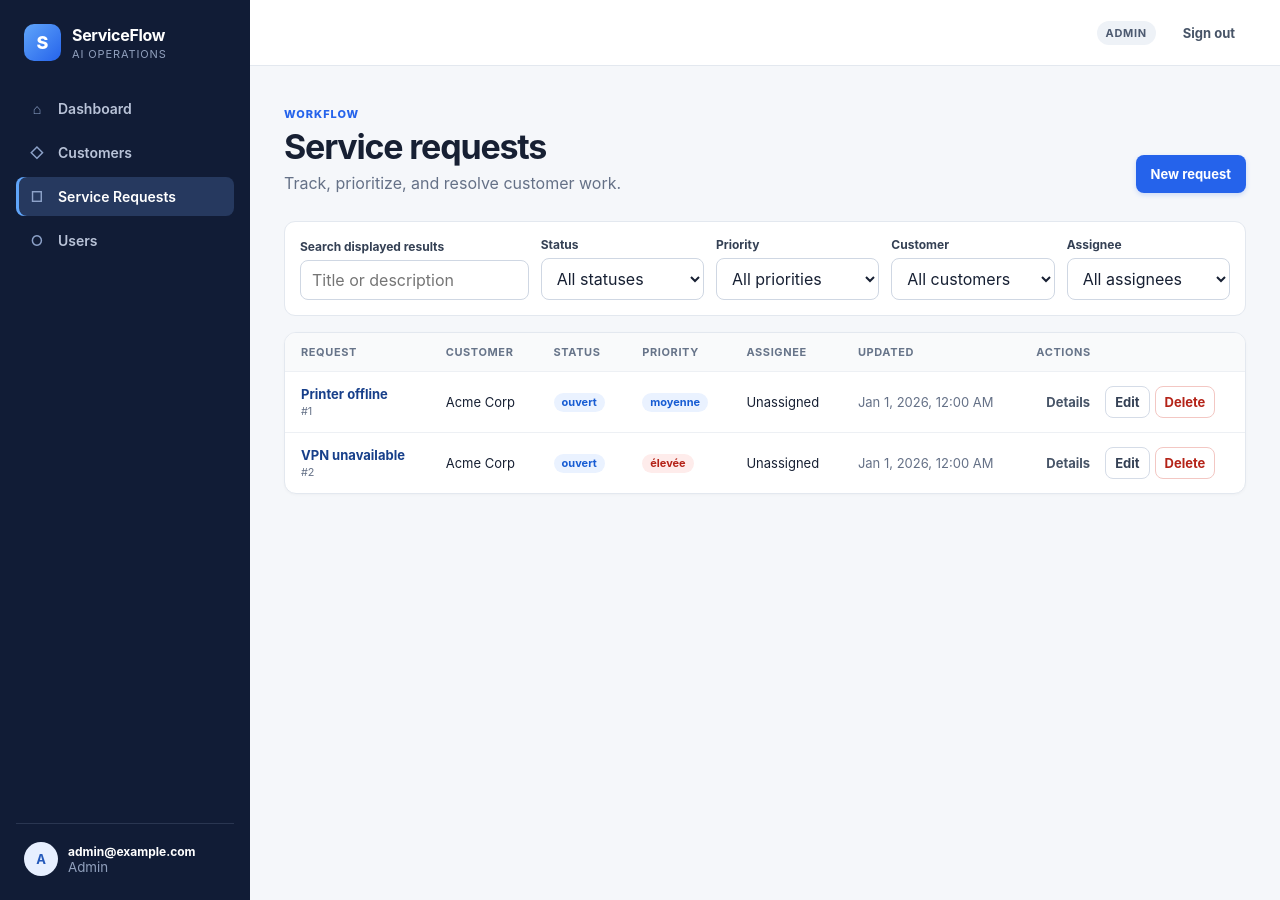
Test case: AI ticket suggestions › ignores a completed suggestion request after switching tickets
Click the button "Printer offline": (344, 394) [301, 386, 388, 402]
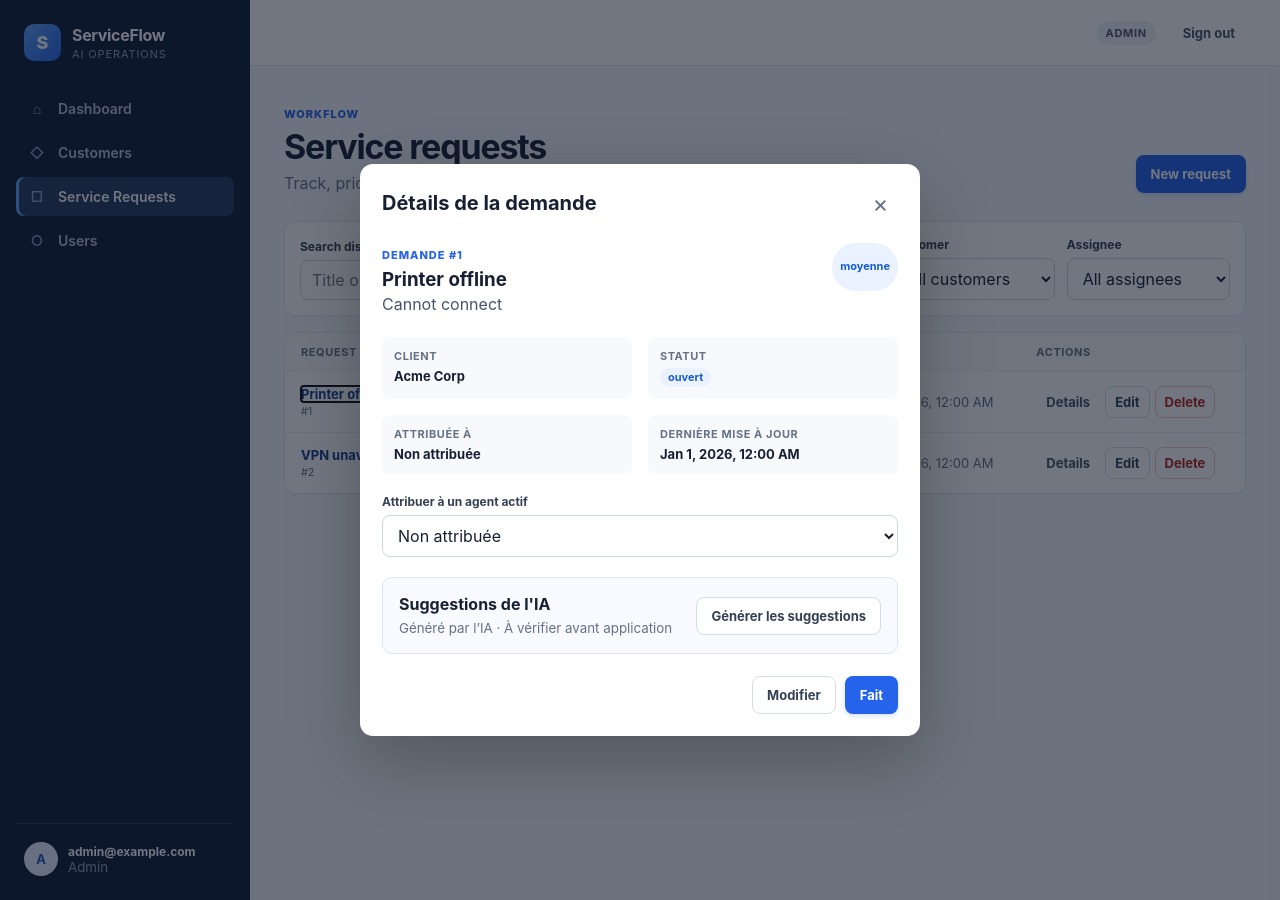
Click the button "Générer les suggestions": (789, 616) [696, 597, 881, 635]
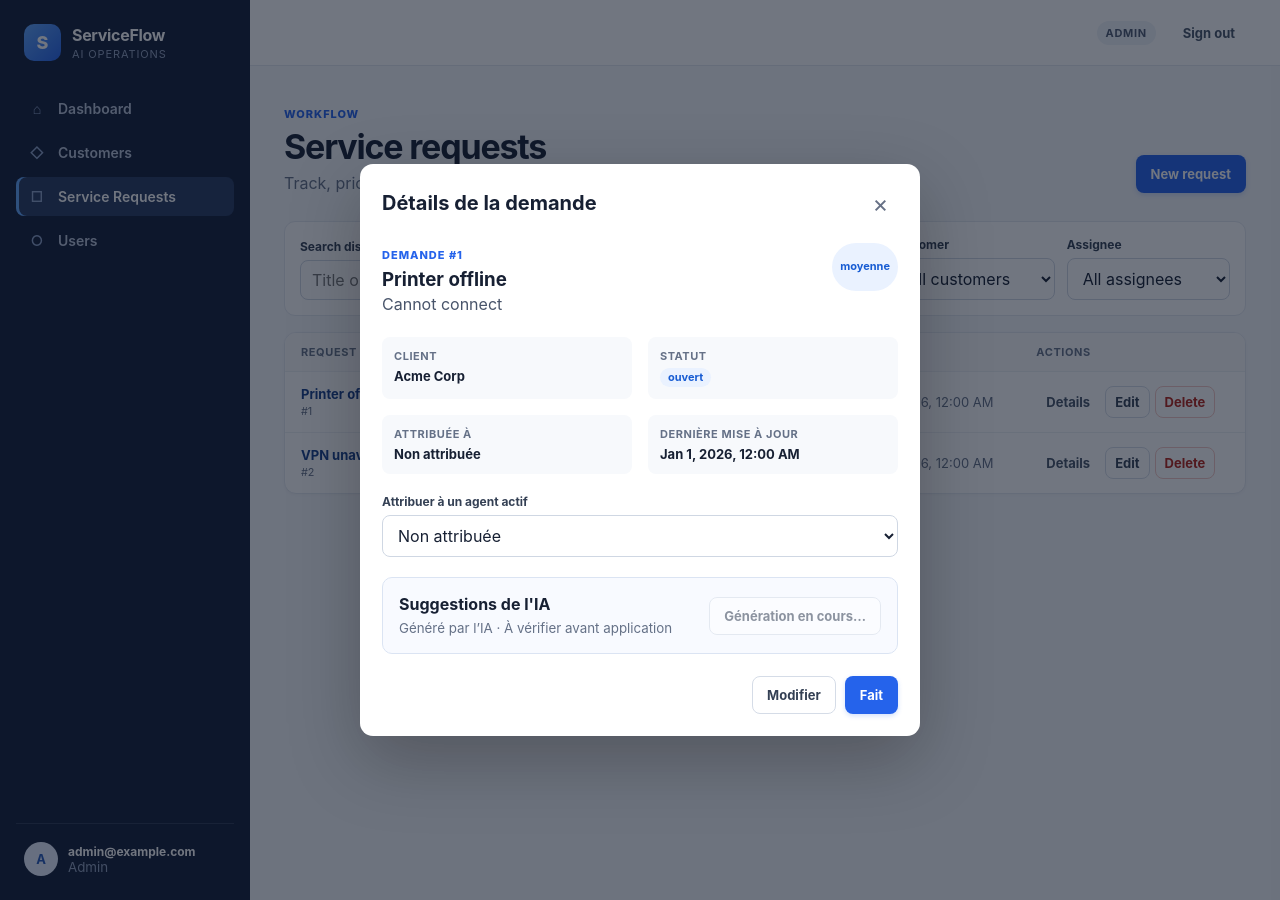
Click the button "Fait": (871, 695) [845, 676, 898, 714]
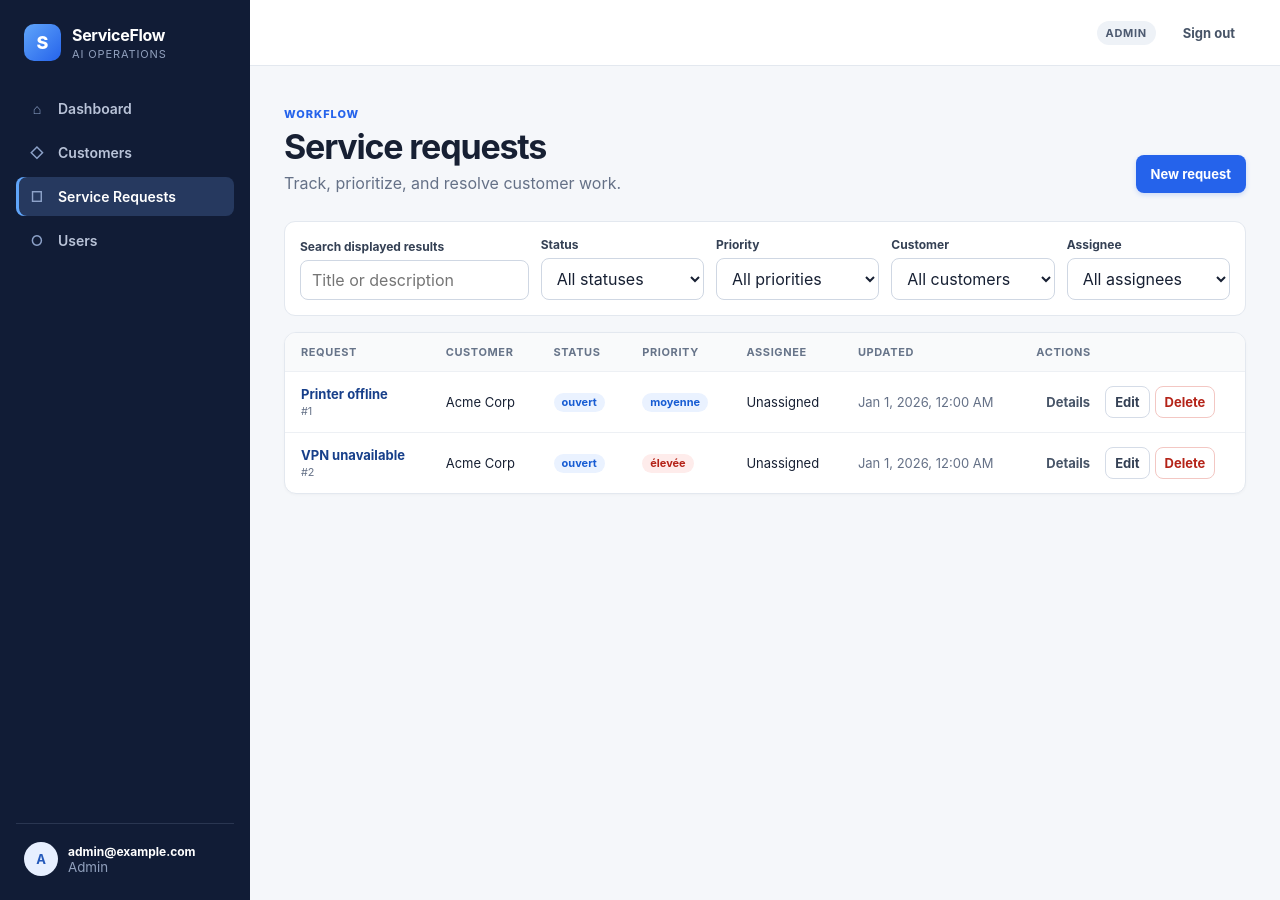
Click the button "VPN unavailable": (353, 455) [301, 447, 405, 463]
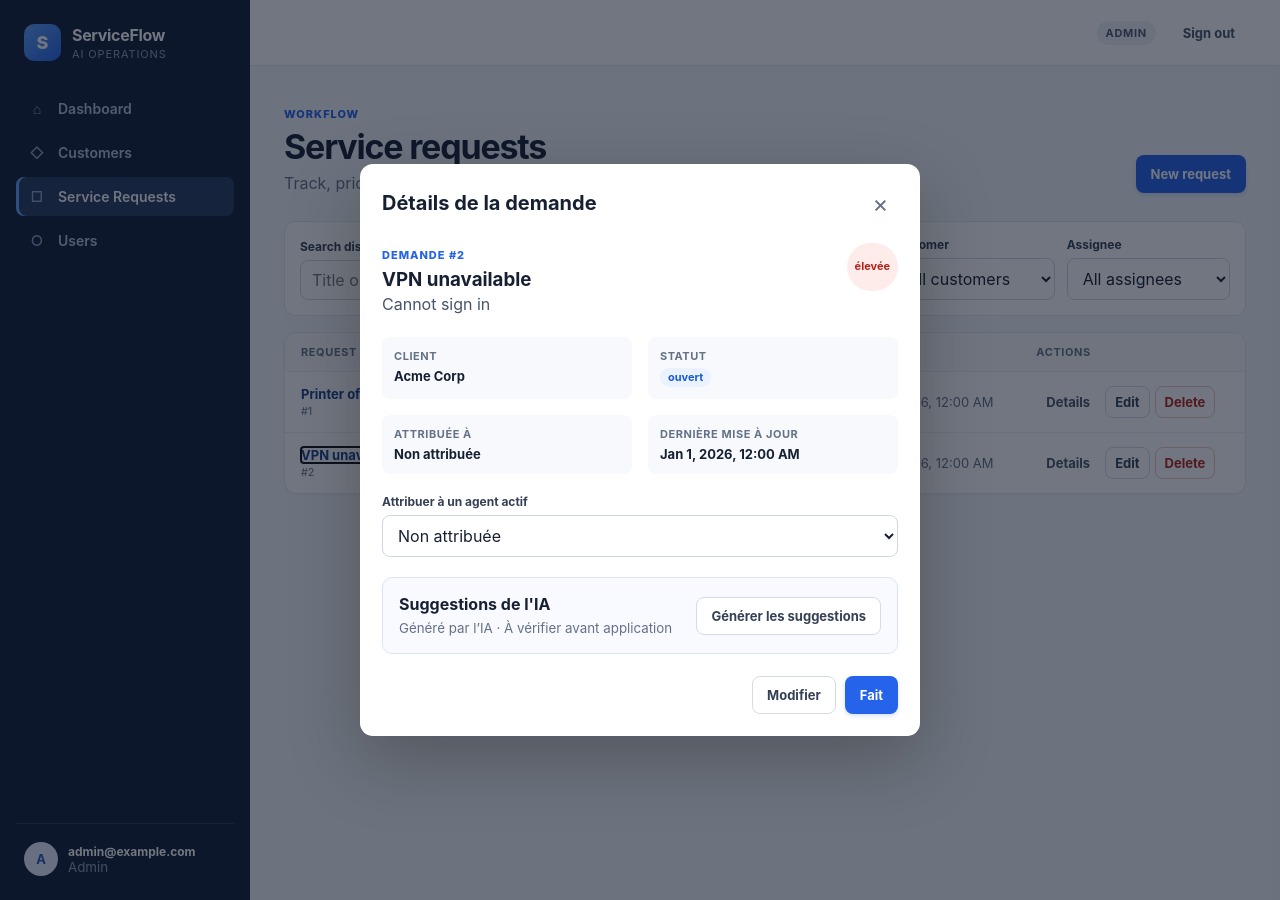
Now the button "Générer les suggestions" is enabled, box [696, 597, 881, 635]
Now the heading "VPN unavailable" is shown, box [382, 268, 532, 291]
